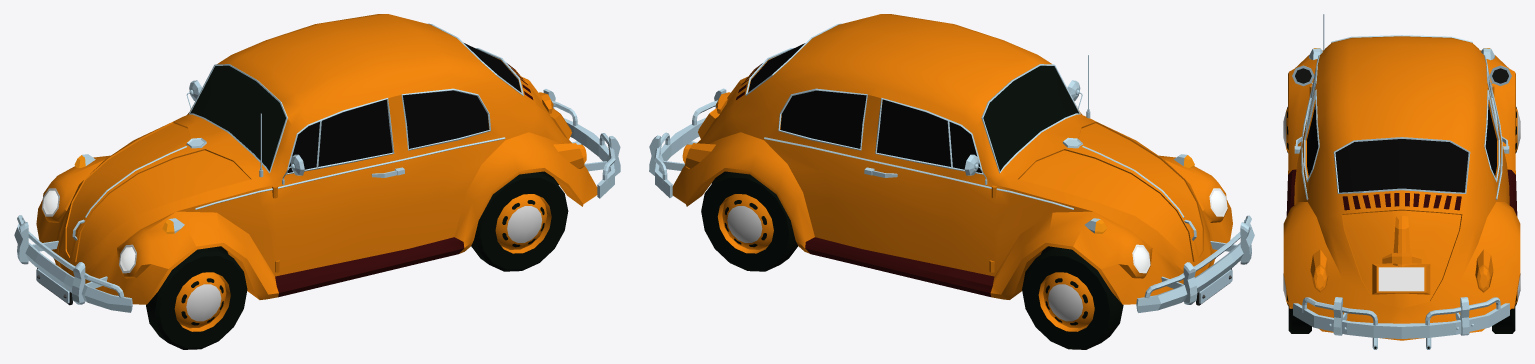
The model's file is beatall.glb.
3 views of the same model, side by side, from view 1: azimuth 30°, elevation 25°; view 2: azimuth 150°, elevation 25°; view 3: azimuth 270°, elevation 25° (orthographic). The views are drawn at different scales.
Visible parts, largest first — view 1: rfWheel; view 2: rfWheel; view 3: rfWheel.
Part boxes in pixels (left/top/right/bottom): rfWheel: left=14, top=14, right=620, bottom=349; rfWheel: left=649, top=14, right=1254, bottom=349; rfWheel: left=1283, top=14, right=1520, bottom=349.
Size of the model in its own units: 4.6 by 1.73 by 1.77.
3 materials, 2 textured.
